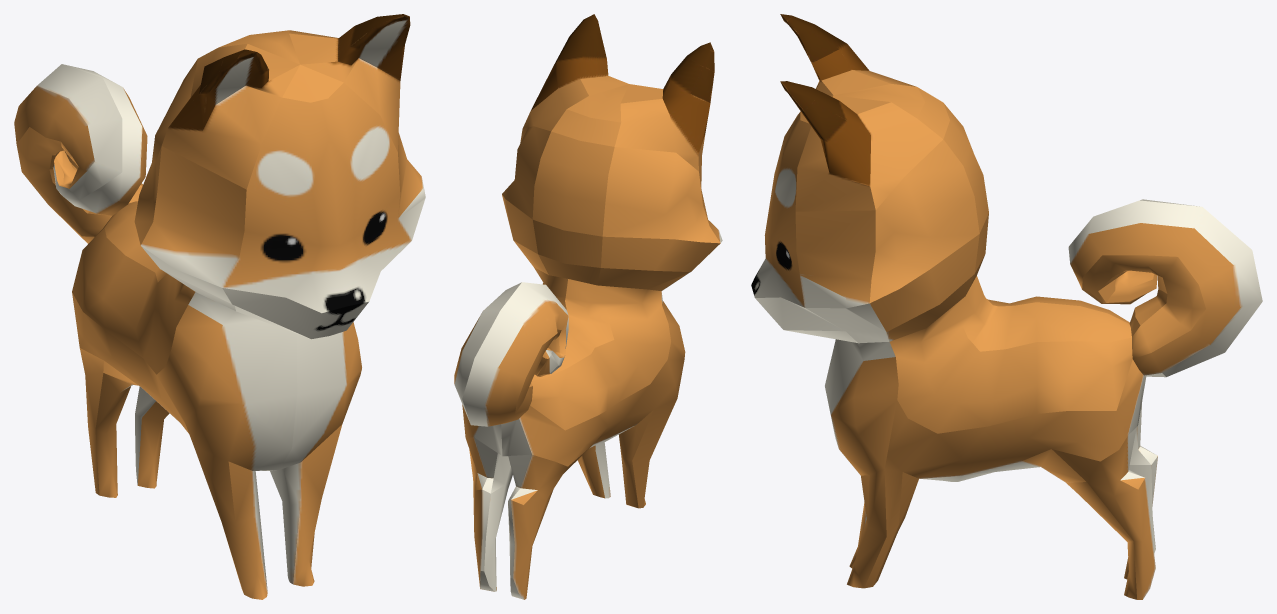
The model's file is tailWagging_frame7.obj.
The picture shows the model from 3 angles, left to right: view 1: azimuth 30°, elevation 25°; view 2: azimuth 150°, elevation 25°; view 3: azimuth 270°, elevation 25°; orthographic projection. The views are drawn at different scales.
Parts seen in each view (by area): view 1: newRigging:BodzL1; view 2: newRigging:BodzL1; view 3: newRigging:BodzL1.
Part boxes in pixels (x1,y1,x2,y2): newRigging:BodzL1: (14,14,425,599); newRigging:BodzL1: (454,14,722,599); newRigging:BodzL1: (751,14,1262,599).
Bounding box in the file's own units: 3.91 × 7.94 × 6.81.
1 material, 1 textured.
